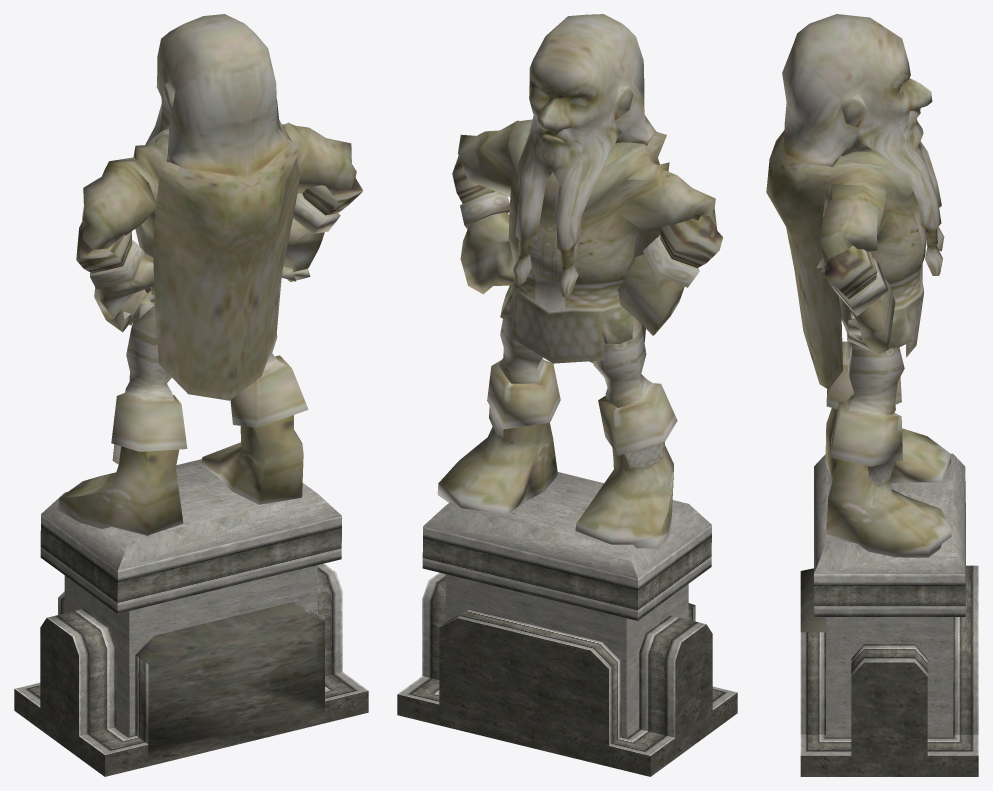
File: MAINHALL_STATUE.fbx
3 views of the same model, side by side, from view 1: azimuth 30°, elevation 25°; view 2: azimuth 150°, elevation 25°; view 3: azimuth 270°, elevation 25° (orthographic). The views are drawn at different scales.
Parts seen in each view (by area): view 1: MAINHALL_STATUE; view 2: MAINHALL_STATUE; view 3: MAINHALL_STATUE.
Boxes of the visible parts, left/top/right/bottom form: MAINHALL_STATUE: left=14, top=14, right=368, bottom=776; MAINHALL_STATUE: left=397, top=14, right=737, bottom=776; MAINHALL_STATUE: left=766, top=14, right=978, bottom=776.
Size of the model in its own units: 25303 by 60537 by 16824.
Materials: 6 (6 with a texture image).
